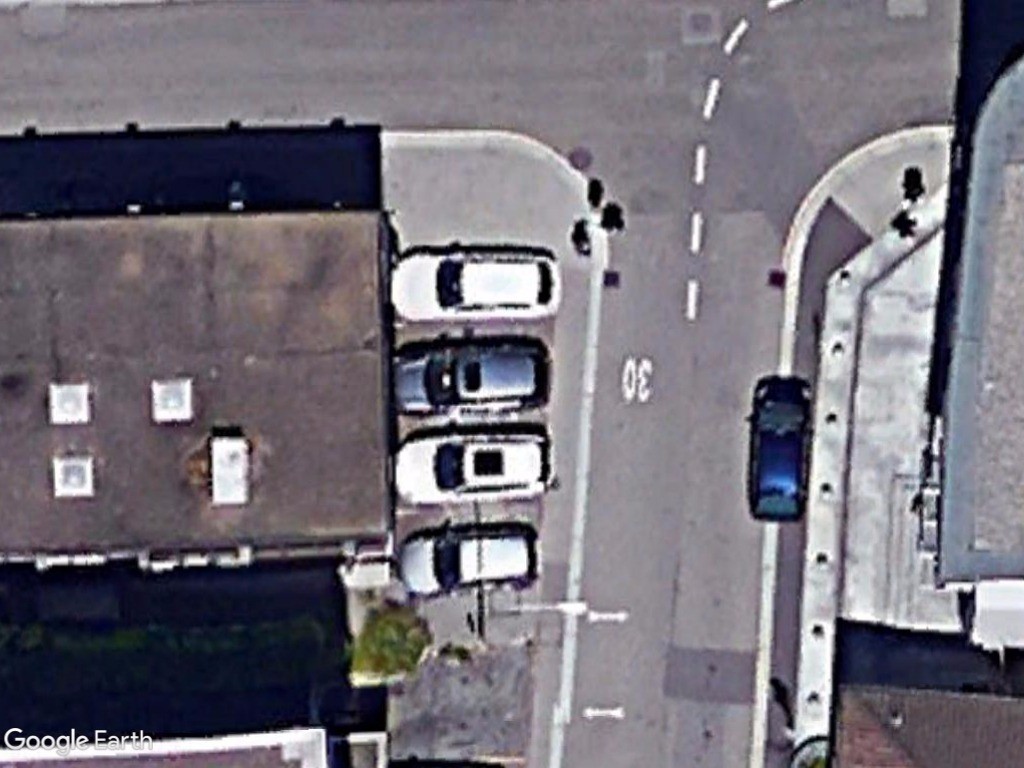car: (386, 241, 566, 326), (390, 427, 562, 510), (391, 336, 552, 419), (394, 523, 543, 600), (745, 373, 816, 527)
